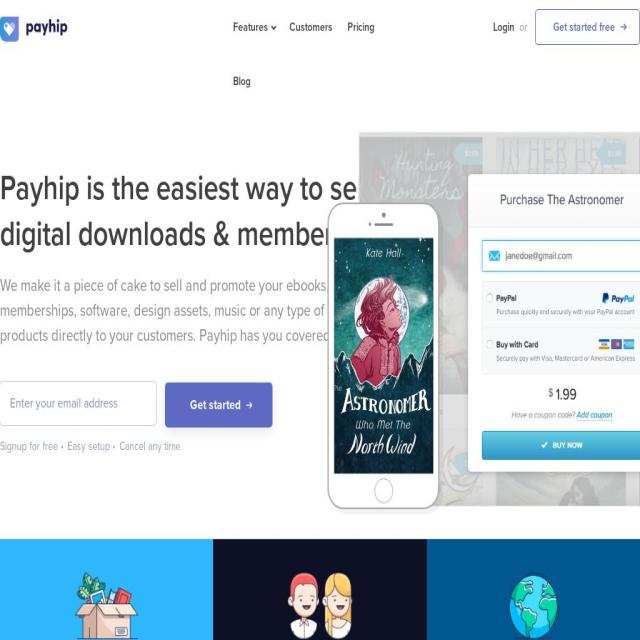button: (0, 538, 214, 640), (213, 538, 427, 640), (426, 538, 640, 640), (165, 382, 273, 428), (535, 9, 640, 45), (289, 0, 333, 54), (233, 0, 275, 54), (347, 0, 375, 54), (494, 0, 514, 54), (233, 54, 251, 108)
field: (0, 382, 156, 425)
heading: (0, 274, 375, 348), (0, 213, 395, 255), (0, 166, 369, 209)
image: (468, 174, 640, 473), (75, 572, 139, 639), (508, 572, 560, 639), (287, 572, 319, 639), (321, 572, 353, 639), (0, 16, 69, 41)
text: (333, 238, 433, 472), (120, 437, 180, 455), (0, 438, 61, 454), (68, 438, 112, 454), (233, 20, 274, 34), (520, 0, 528, 57), (374, 222, 393, 226), (60, 438, 64, 454), (112, 438, 116, 454)
